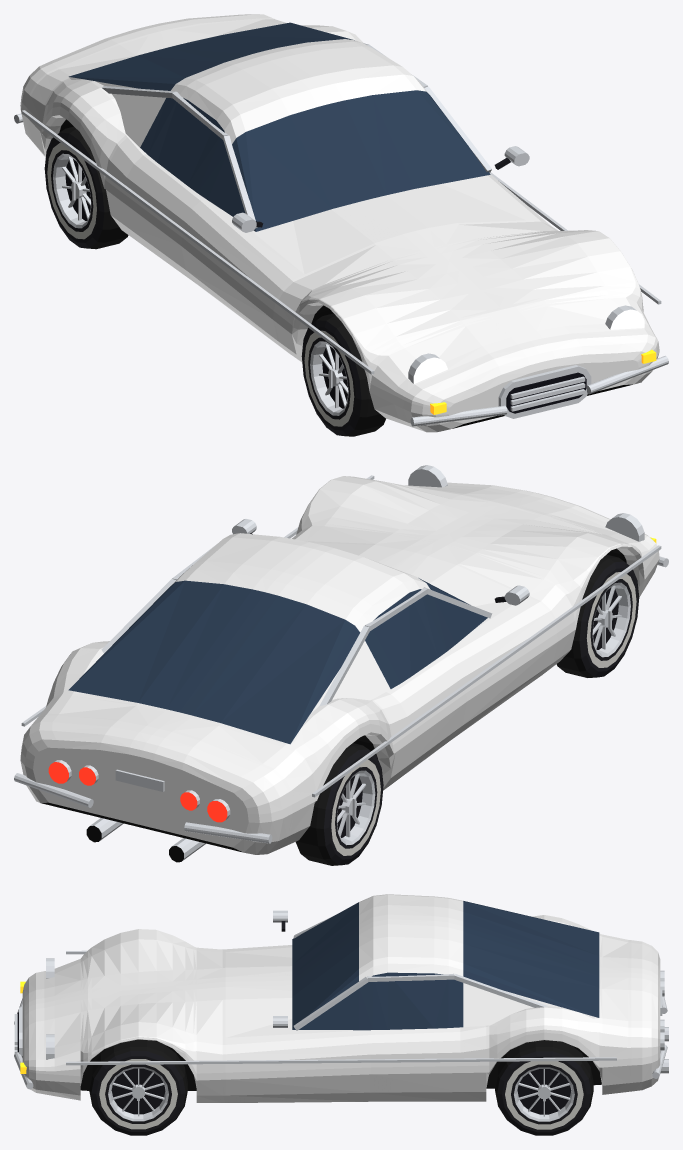
Rendered from classic.glb.
3 views of the same model, one above another, from view 1: azimuth 30°, elevation 25°; view 2: azimuth 150°, elevation 25°; view 3: azimuth 270°, elevation 25° (orthographic). The views are drawn at different scales.
Parts seen in each view (by area): view 1: paint, glass, stripe_a, chrome (×3), tire_side (×2), stripe_b, tire (×2), tire_whitewall (×2), headlight, trim_grille; view 2: paint, glass, chrome (×3), stripe_a, tire_side (×2), stripe_b, tire (×2), tire_whitewall (×2), trim_under, taillight; view 3: paint, glass, stripe_a, chrome (×3), tire_side (×2), stripe_b, trim (×2), tire (×2), tire_whitewall (×2), trim_under.
Part boxes in pixels (x1,y1,x2,y2): paint: (21, 14, 658, 432); glass: (69, 22, 490, 231); stripe_a: (106, 18, 584, 382); chrome (×3): (14, 43, 668, 426); tire_side (×2): (44, 132, 361, 435); stripe_b: (20, 98, 659, 415); tire (×2): (60, 126, 385, 436); tire_whitewall (×2): (47, 143, 354, 426); headlight: (413, 309, 644, 383); trim_grille: (506, 372, 586, 413); paint: (20, 476, 659, 854); glass: (68, 578, 487, 744); chrome (×3): (14, 465, 668, 861); stripe_a: (99, 485, 578, 769); tire_side (×2): (324, 561, 639, 864); stripe_b: (20, 544, 659, 822); tire (×2): (295, 554, 623, 865); tire_whitewall (×2): (331, 572, 636, 855); trim_under: (41, 548, 626, 862); taillight: (48, 762, 227, 822); paint: (22, 894, 660, 1102); glass: (292, 901, 599, 1030); stripe_a: (22, 905, 660, 1034); chrome (×3): (14, 910, 668, 1121); tire_side (×2): (91, 1051, 591, 1135); stripe_b: (24, 1032, 660, 1083); trim (×2): (111, 1068, 571, 1114); tire (×2): (89, 1039, 593, 1120); tire_whitewall (×2): (99, 1059, 583, 1129); trim_under: (80, 1040, 601, 1090).
Size of the model in its own units: 1.85 by 1.25 by 4.52.
